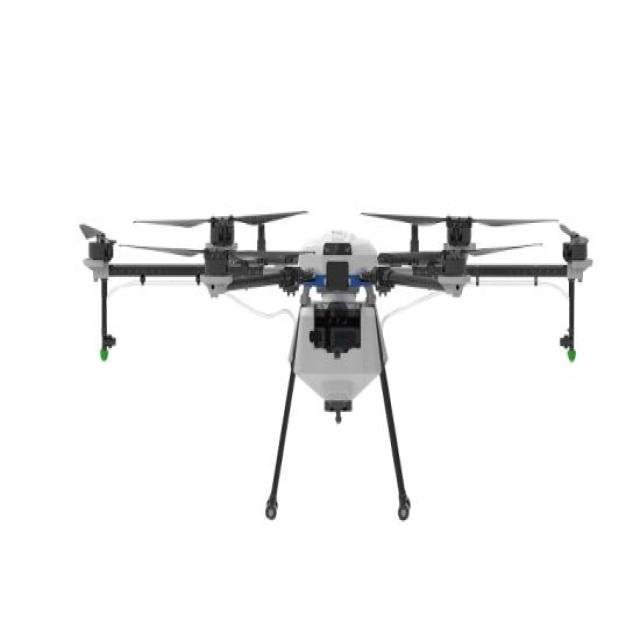drone: (15, 157, 639, 424)
